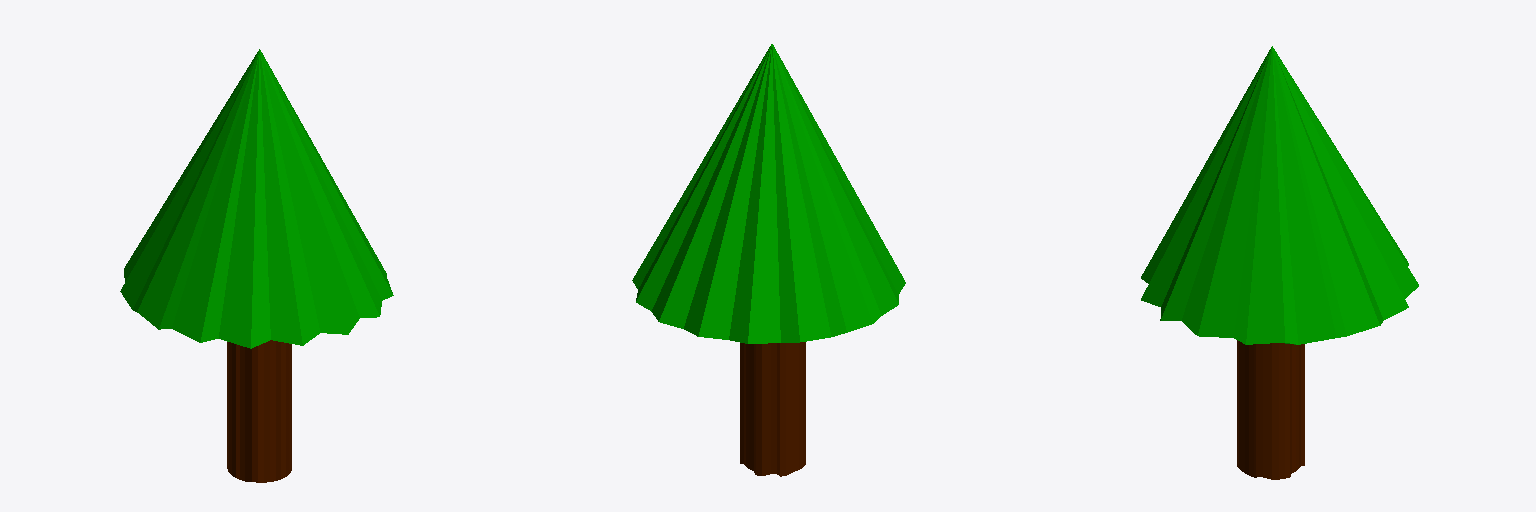
The model's file is pinewood.obj.
The picture shows the model from 3 angles: view 1: azimuth 30°, elevation 25°; view 2: azimuth 150°, elevation 25°; view 3: azimuth 270°, elevation 25°; orthographic projection.
Visible parts, largest first — view 1: Cone, Cylinder; view 2: Cone, Cylinder; view 3: Cone, Cylinder.
Boxes of the visible parts, <box> form: Cone: <box>120,49,393,348</box>; Cylinder: <box>227,340,291,482</box>; Cone: <box>632,44,905,343</box>; Cylinder: <box>740,342,805,476</box>; Cone: <box>1141,46,1418,344</box>; Cylinder: <box>1237,340,1304,479</box>.
Size of the model in its own units: 2 by 3.45 by 2.08.